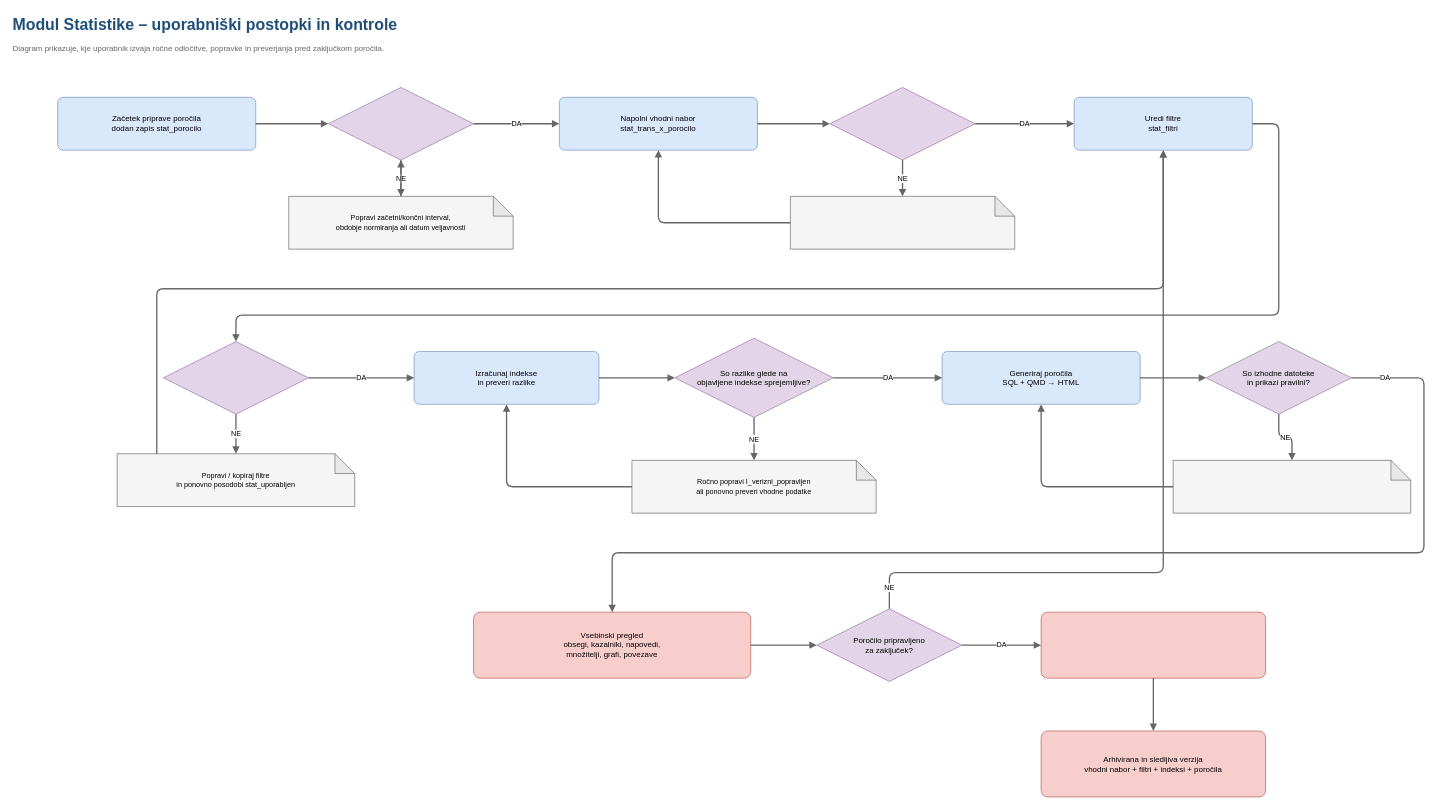
This 1441x809 diagram has some shape labels left out. The box of each missing label's shape, as (x1, y1, x2, y2) in pixels:
Je nabor transakcij ustrezen?: (829, 87, 975, 160)
Označi končno poročilo koncno = true in shrani povezave do HTML: (1040, 611, 1266, 678)
Popravi poizvedbo, predlogo, indekse ali filtre in ponovi generiranje: (1172, 460, 1411, 513)
So filtrirani nabori po modelih pravilni?: (163, 341, 309, 414)
So intervali in normiranje pravilno določeni?: (328, 87, 474, 160)
Spremeni datum, intervale ali ponovno napolni nabor: (790, 196, 1015, 249)
